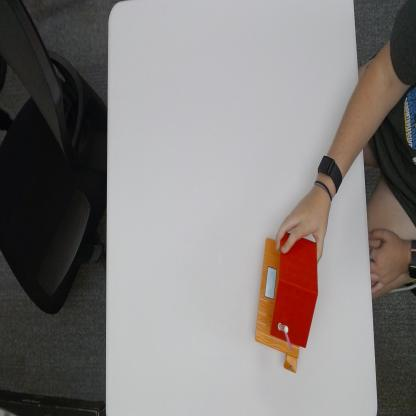Arm: (335, 43, 404, 168)
Hand: (275, 178, 336, 248)
House: (257, 234, 318, 372)
